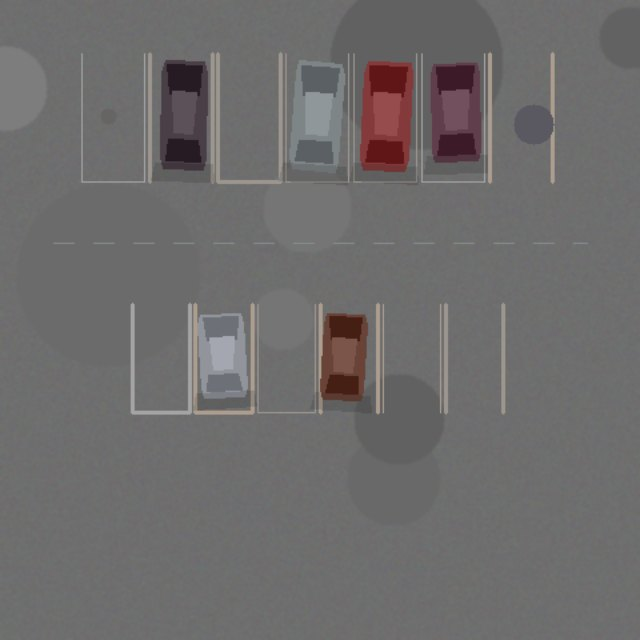space-empty: (81, 53, 144, 181), (217, 53, 280, 181), (489, 53, 552, 181), (257, 304, 315, 412), (445, 304, 503, 412), (132, 304, 189, 412), (383, 304, 440, 412)
space-occupied: (149, 53, 212, 181), (285, 53, 348, 181), (353, 53, 416, 181), (421, 53, 484, 181), (195, 304, 252, 412), (320, 304, 377, 412)
